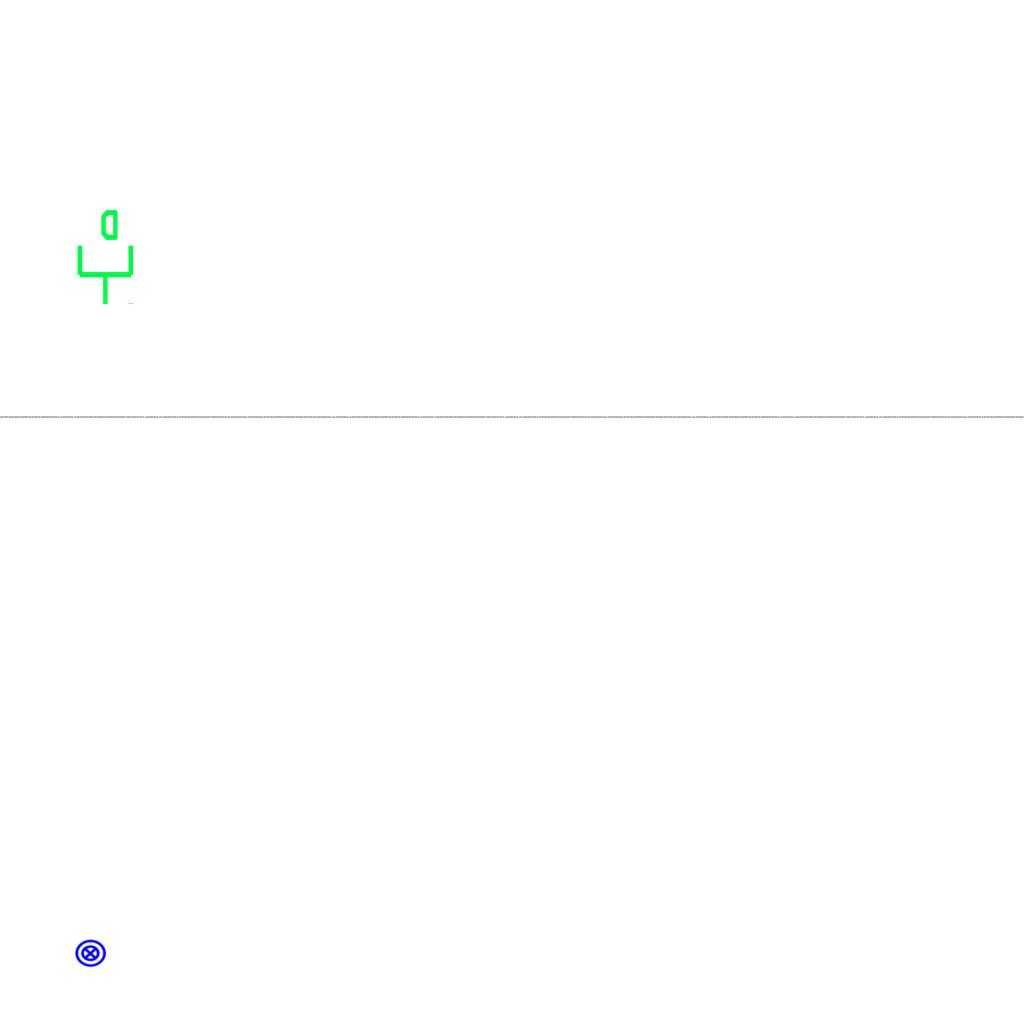Datenanschluss_einfach: (69, 207, 138, 307)
Taster_beleuchtet: (74, 937, 107, 970)
